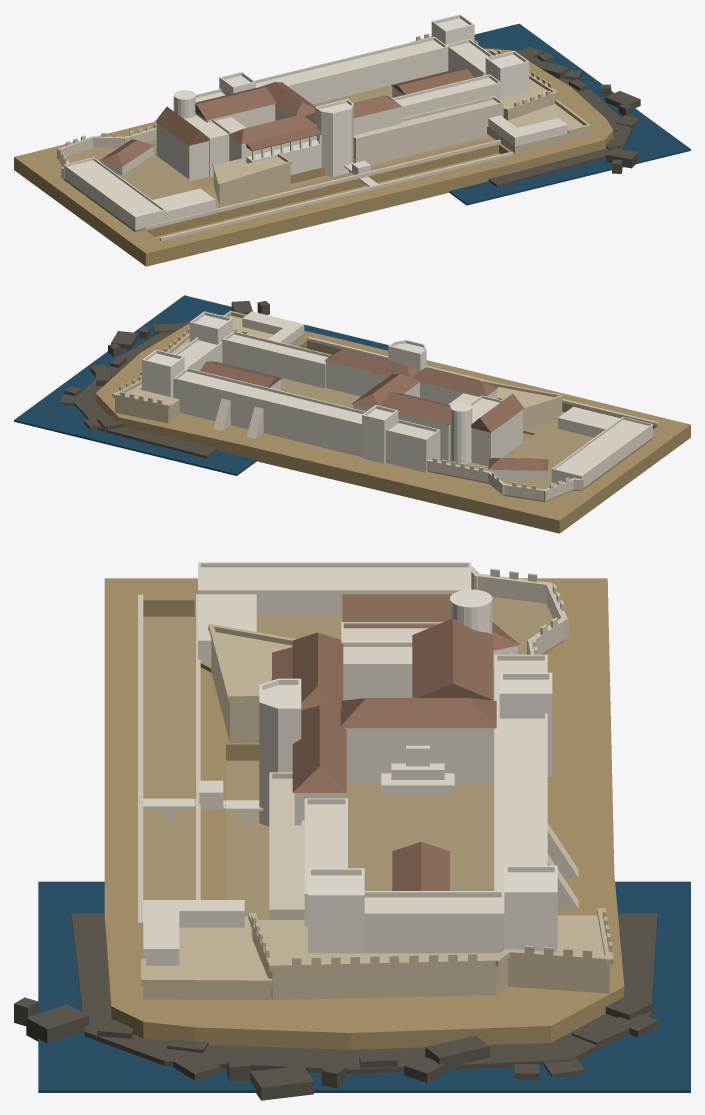
Rendered from elmina-massing.glb.
The picture shows the model from 3 angles, top to bottom: view 1: azimuth 30°, elevation 25°; view 2: azimuth 150°, elevation 25°; view 3: azimuth 270°, elevation 25°; orthographic projection. The views are drawn at different scales.
Visible parts, largest first — view 1: Ranges, Shoreline, Limestone, Roof, Tower, Bastion, Sea, Rock, Courtyard; view 2: Ranges, Shoreline, Roof, Sea, Tower, Rock, Bastion, Courtyard, Limestone; view 3: Shoreline, Ranges, Courtyard, Bastion, Sea, Rock, Roof, Tower, Limestone.
Part boxes in pixels (bbox=[...]): Ranges: bbox=[63, 36, 567, 230]; Shoreline: bbox=[14, 48, 613, 266]; Limestone: bbox=[57, 96, 513, 241]; Roof: bbox=[99, 68, 473, 166]; Tower: bbox=[173, 14, 529, 176]; Bastion: bbox=[212, 33, 590, 207]; Sea: bbox=[449, 23, 690, 205]; Rock: bbox=[481, 46, 640, 187]; Courtyard: bbox=[63, 85, 499, 239]; Ranges: bbox=[173, 311, 652, 487]; Shoreline: bbox=[95, 315, 690, 533]; Roof: bbox=[200, 349, 548, 470]; Sea: bbox=[14, 295, 388, 475]; Tower: bbox=[142, 311, 472, 464]; Rock: bbox=[59, 301, 269, 458]; Bastion: bbox=[112, 310, 563, 430]; Courtyard: bbox=[280, 378, 652, 501]; Limestone: bbox=[213, 337, 658, 500]; Shoreline: bbox=[104, 578, 624, 1049]; Ranges: bbox=[143, 562, 547, 965]; Courtyard: bbox=[143, 597, 564, 939]; Bastion: bbox=[141, 623, 613, 999]; Sea: bbox=[38, 881, 690, 1092]; Rock: bbox=[14, 913, 658, 1100]; Roof: bbox=[272, 594, 519, 890]; Tower: bbox=[259, 589, 557, 953]; Limestone: bbox=[138, 566, 578, 927].
Size of the model in its own units: 1.5 by 0.183 by 0.8628.
